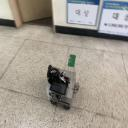cart: (46, 68, 76, 110)
